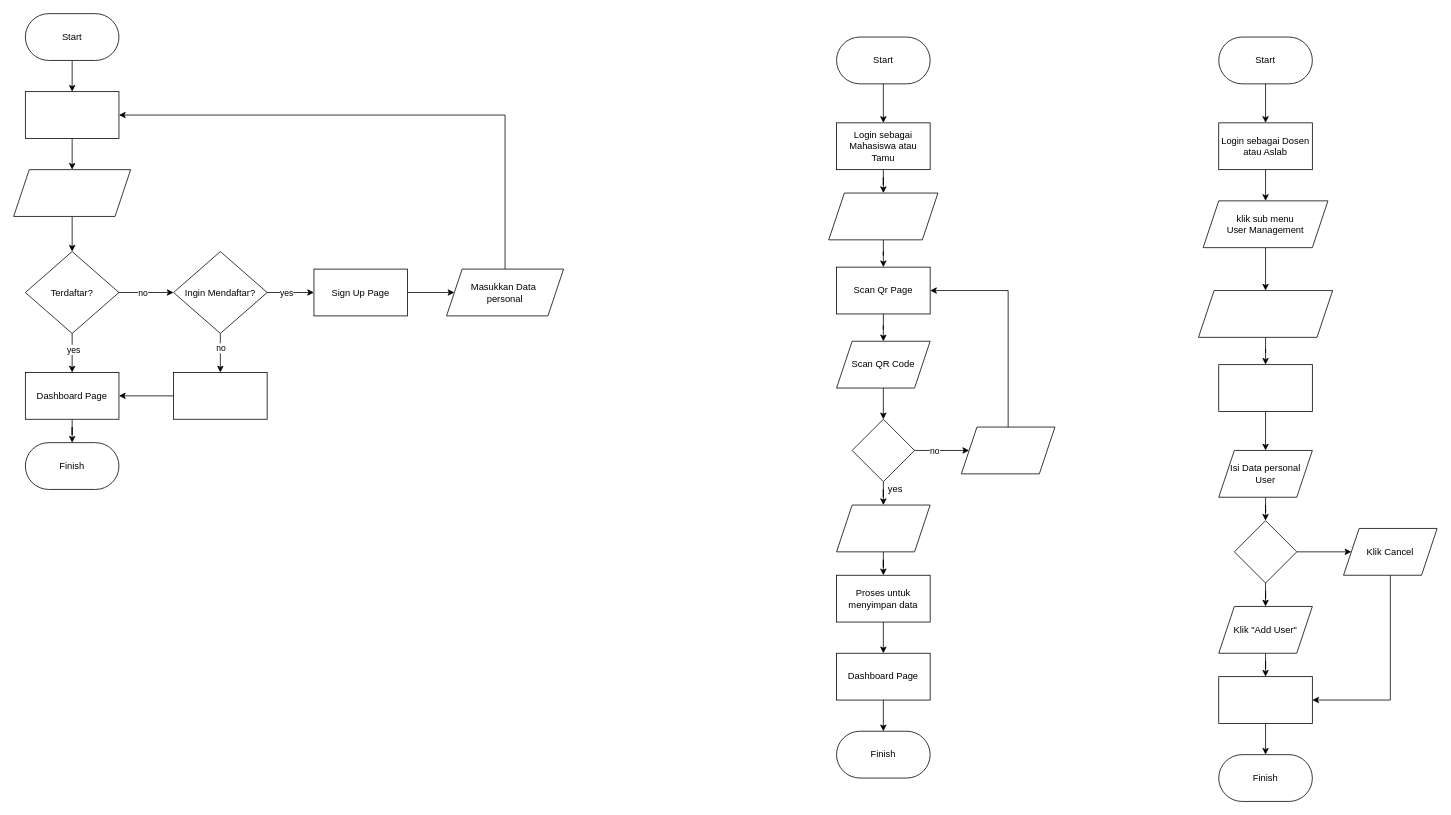
The diagram is 1451 pixels wide and 815 high, and some of its shapes have lost their labels. The shapes that lost their labels are listed below. From the top down, each one's centre as x and y in pixels, then its label:
[72,114]: Login Page
[72,192]: Masukkan Username & Password
[883,216]: Klik button "Daftar Pertemuan"
[1265,313]: Klik button "Tambak Akun"
[220,395]: Login sebagai Tamu
[1265,387]: Muncul Pop up tambah akun
[883,450]: Sesuai?
[1008,450]: reset
[883,528]: Submit
[1265,551]: Simpan?
[1265,699]: User Management Page
